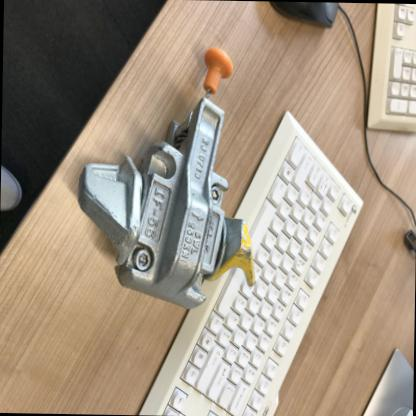Twistlock: (70, 40, 268, 316)
